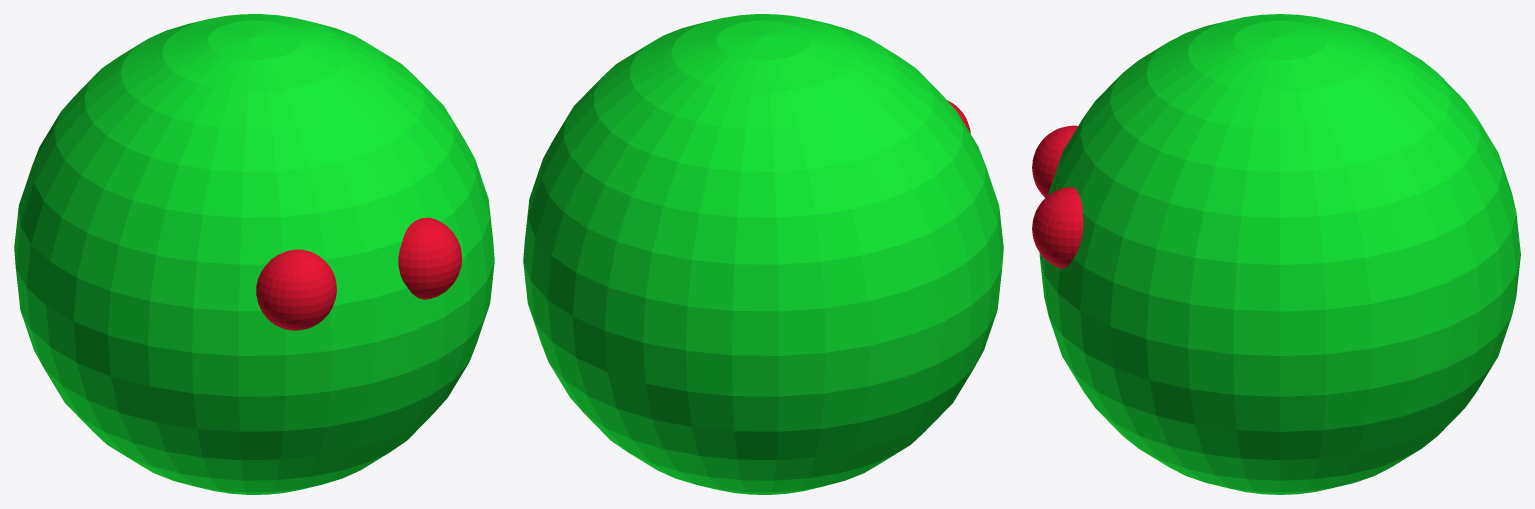
The model's file is slime.glb.
3 renders of one model, left to right at view 1: azimuth 30°, elevation 25°; view 2: azimuth 150°, elevation 25°; view 3: azimuth 270°, elevation 25°, orthographic.
Parts seen in each view (by area): view 1: Sphere, Sphere.001, Sphere.002; view 2: Sphere; view 3: Sphere, Sphere.002, Sphere.001.
Part boxes in pixels (x1=…): Sphere: x1=14, y1=14, x2=494, y2=494; Sphere.001: x1=256, y1=249, x2=336, y2=330; Sphere.002: x1=398, y1=217, x2=461, y2=299; Sphere: x1=523, y1=14, x2=1003, y2=494; Sphere: x1=1039, y1=14, x2=1520, y2=494; Sphere.002: x1=1032, y1=187, x2=1083, y2=268; Sphere.001: x1=1032, y1=125, x2=1077, y2=197.
Bounding box in the file's own units: 2 × 2 × 2.03.
